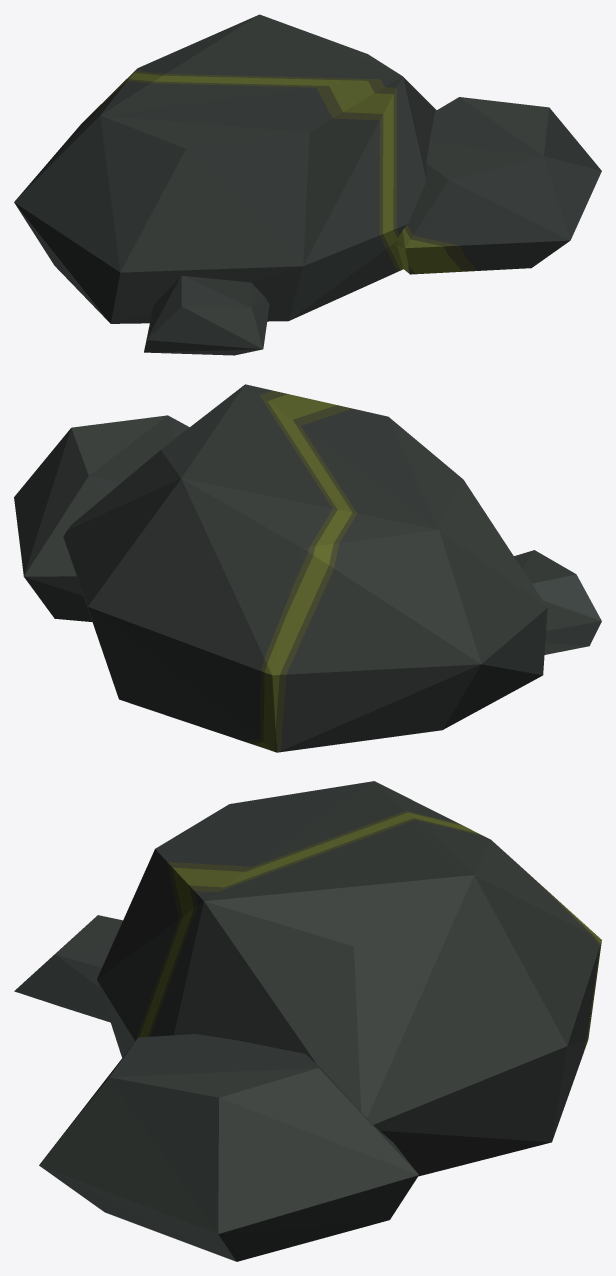
File: ore_uranium_v01_lod0.glb
The picture shows the model from 3 angles, top to bottom: view 1: azimuth 30°, elevation 25°; view 2: azimuth 150°, elevation 25°; view 3: azimuth 270°, elevation 25°; orthographic projection. The views are drawn at different scales.
Parts seen in each view (by area): view 1: ore_uranium_v01_lod0; view 2: ore_uranium_v01_lod0; view 3: ore_uranium_v01_lod0.
Boxes of the visible parts, <box> form: ore_uranium_v01_lod0: <box>14,14,601,355</box>; ore_uranium_v01_lod0: <box>14,384,601,752</box>; ore_uranium_v01_lod0: <box>14,781,601,1261</box>.
Size of the model in its own units: 2.77 by 0.9789 by 2.08.
